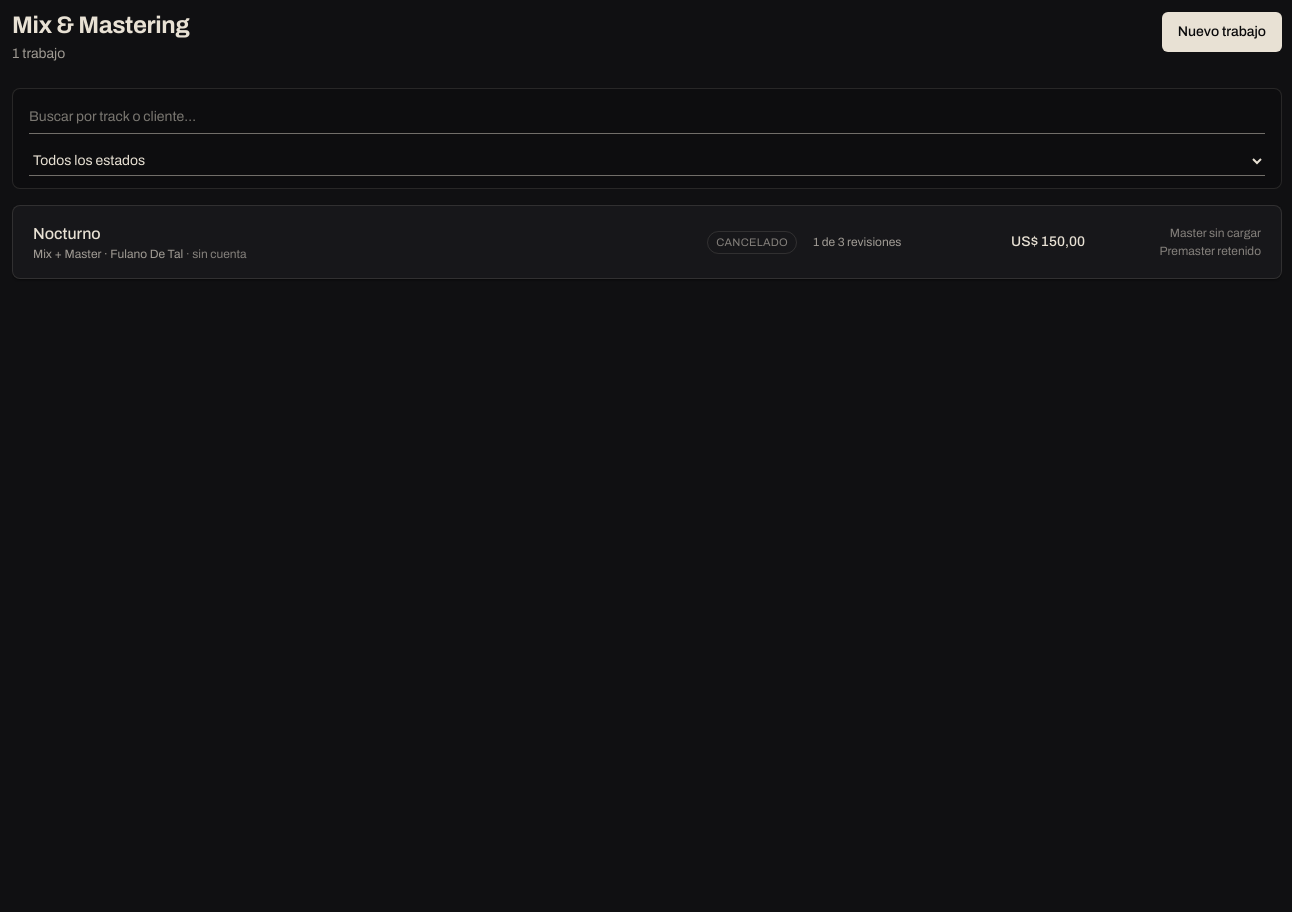
Test: las acciones según el estado › un trabajo cancelado no ofrece nada
Click the text "Nocturno". click: (67,234)
box: [33,225,101,242]
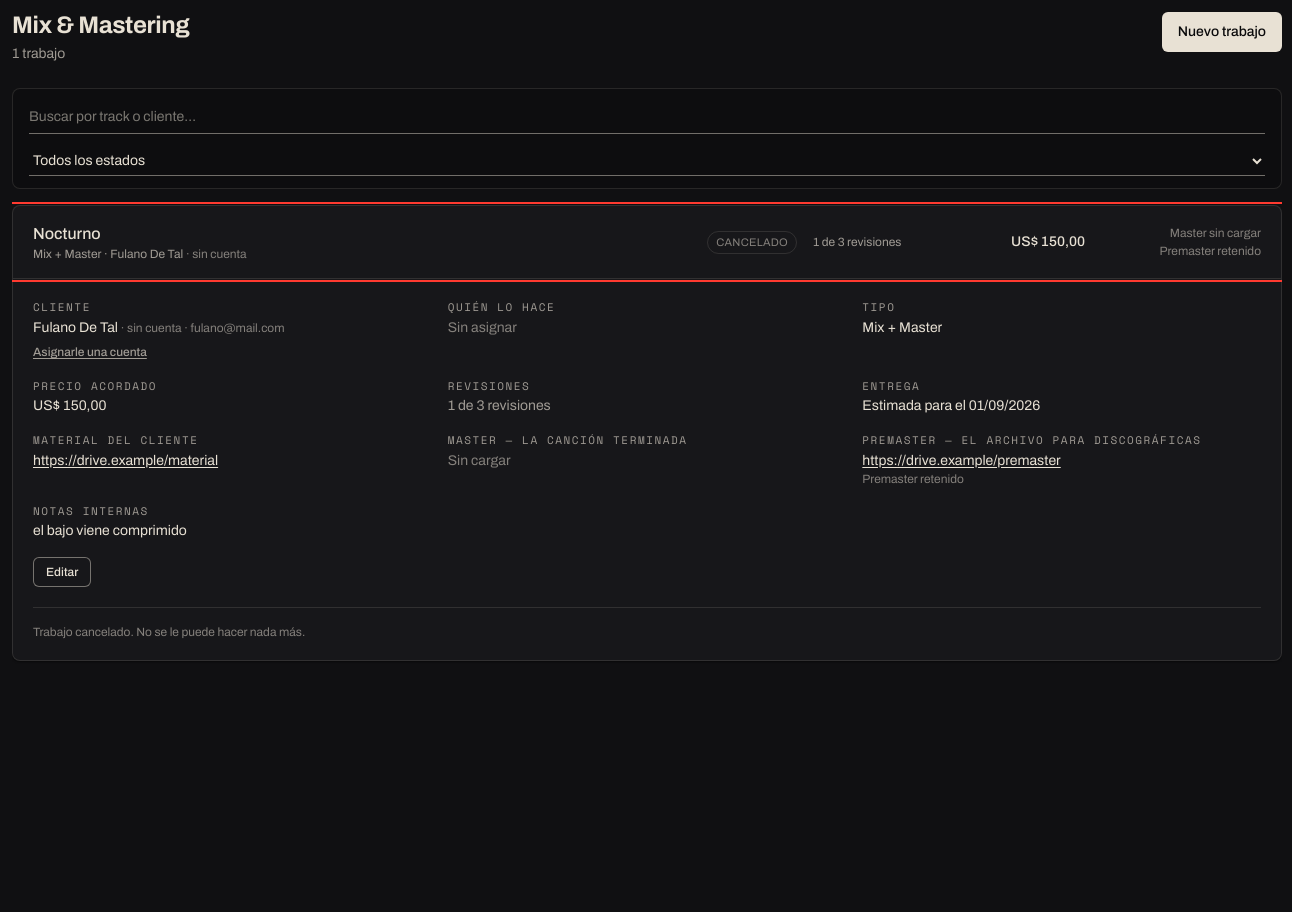
Expected: the text "Trabajo cancelado. No se le puede hacer nada más." is shown, [33,607,1261,640]
